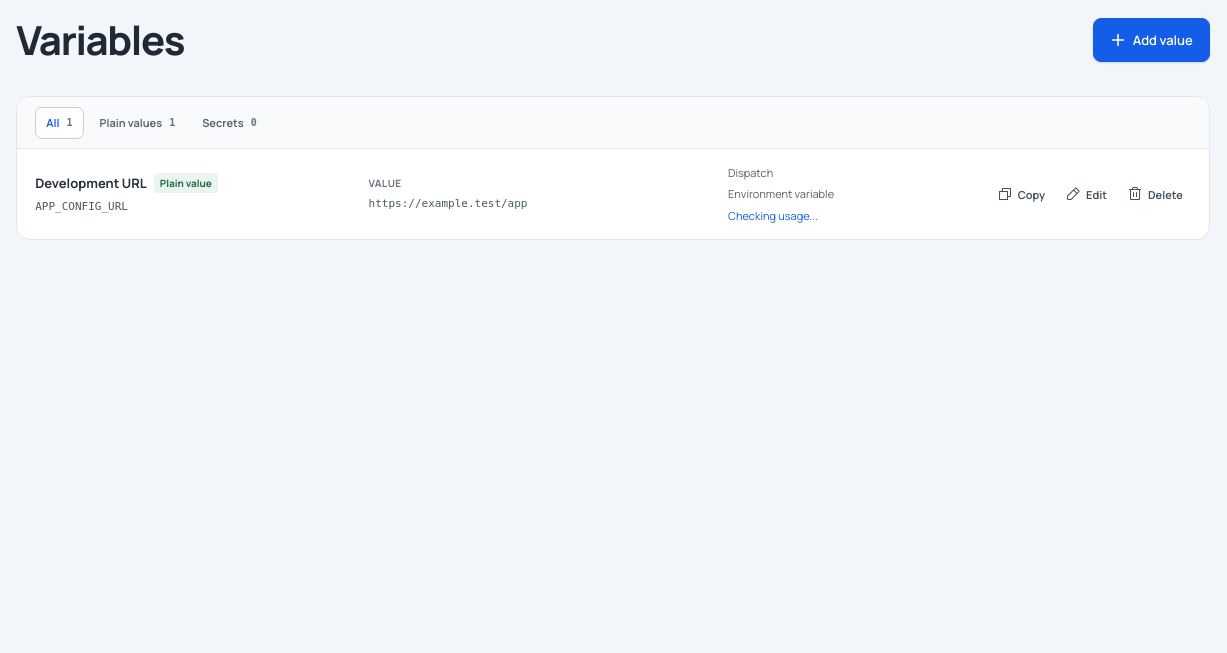
Test: secret actions › shows plain values and allows editing them
Check: the heading "Variables" is shown, box [16,16,184,64]
Check: the text "https://example.test/app" is shown, box [368,197,528,210]
Click the button with aria-label "Edit Development URL". click: (1086,194)
box: [1057,179,1115,209]
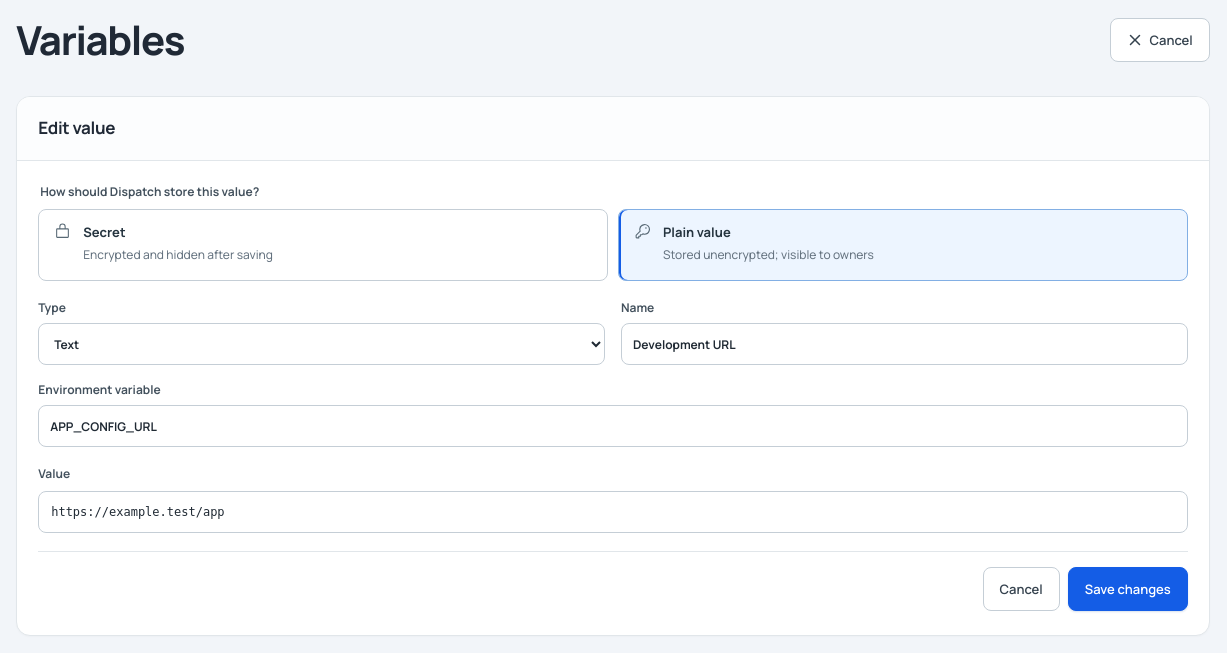
Check: the field labelled "Value" holds "https://example.test/app", box [38,491,1188,533]
